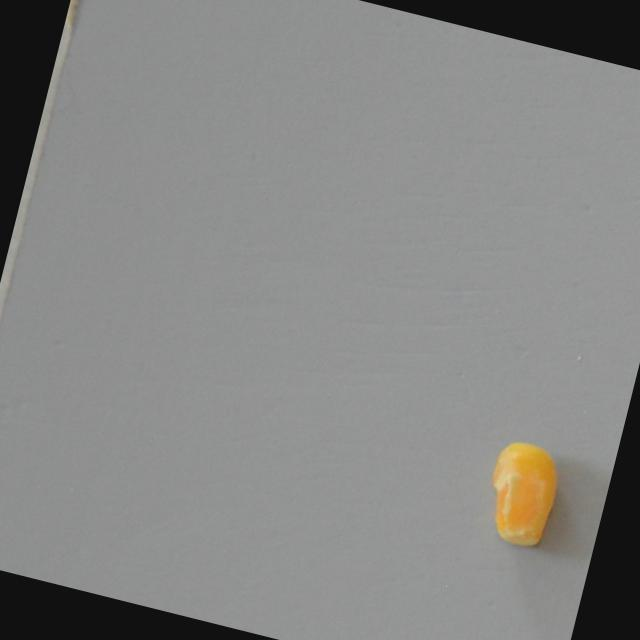pelicula: (476, 437, 570, 553)
